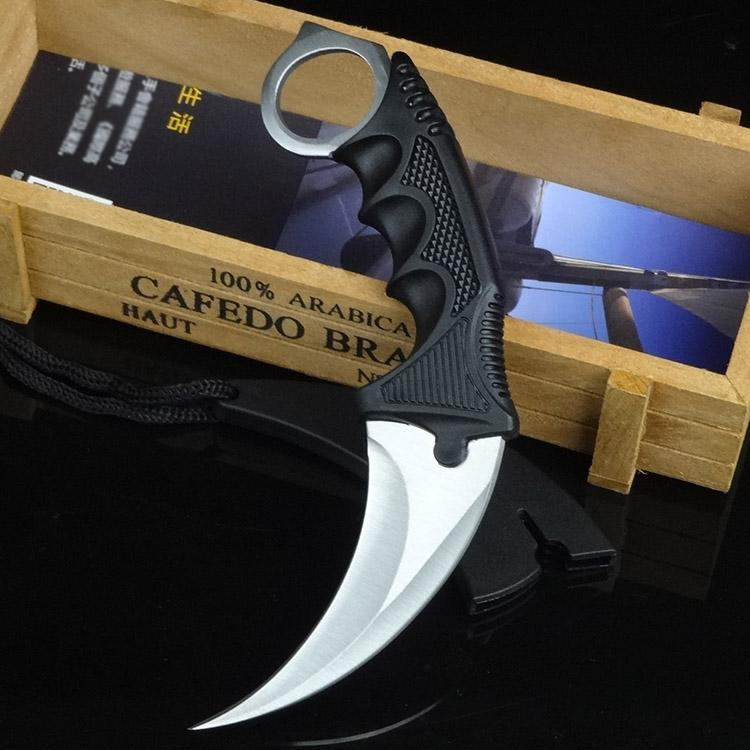knife: (106, 20, 587, 733)
